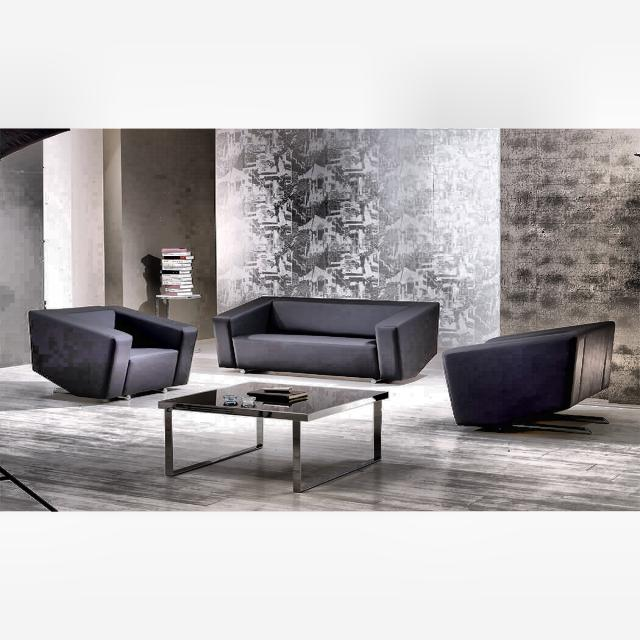sofa: (211, 294, 439, 384), (441, 320, 616, 434), (28, 304, 198, 403)
